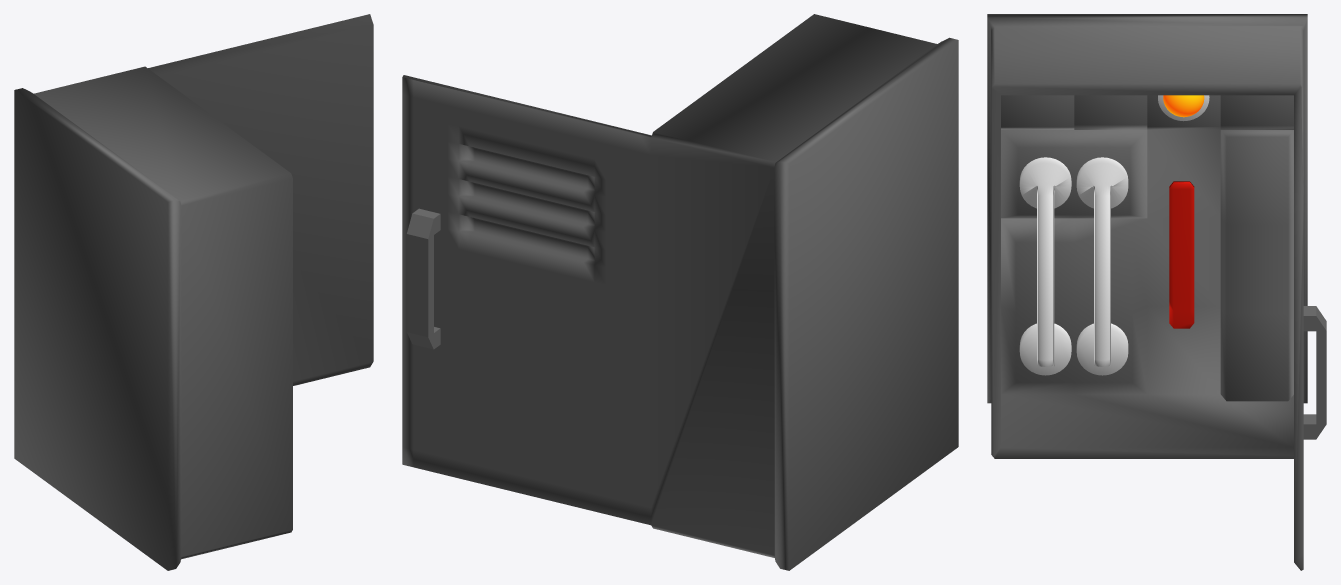
File: breaker.glb
3 renders of one model, left to right at view 1: azimuth 30°, elevation 25°; view 2: azimuth 150°, elevation 25°; view 3: azimuth 270°, elevation 25°, orthographic. The views are drawn at different scales.
Visible parts, largest first — view 1: breaker; view 2: breaker; view 3: breaker, lever.
Boxes of the visible parts, left/top/right/bottom form: breaker: left=14, top=14, right=373, bottom=570; breaker: left=402, top=14, right=958, bottom=570; breaker: left=987, top=14, right=1326, bottom=570; lever: left=1169, top=181, right=1194, bottom=328.
Size of the model in its own units: 2.05 by 2.05 by 1.64.
